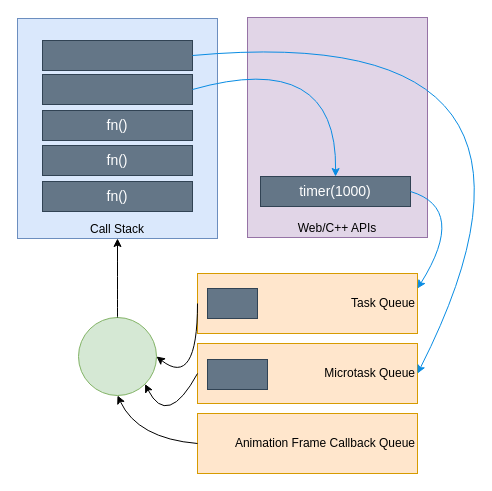
Some shapes in this 492 by 491 pixel diagram are drawn without their labels. Each missing label, with the centre of its shape:
cb(): the point at 232,303
event loop: the point at 117,356
new Promise(): the point at 117,55
Promise: the point at 237,374
setTimeout(cb, 1000): the point at 117,89
